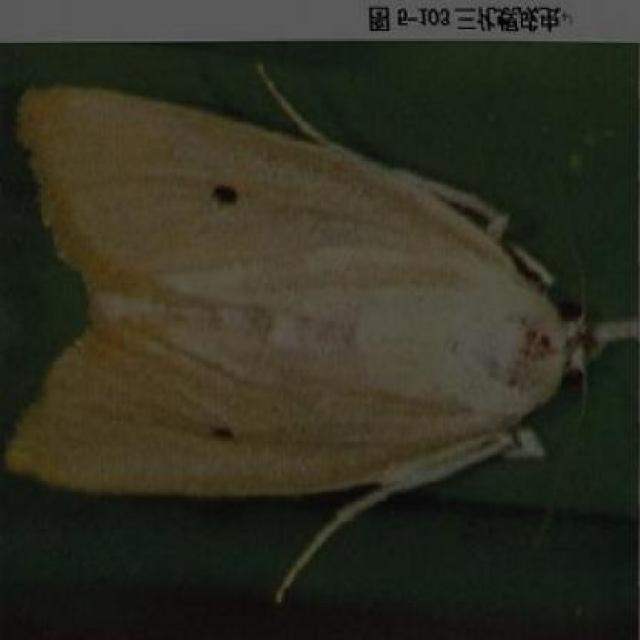stem-borer: (6, 61, 640, 604)
